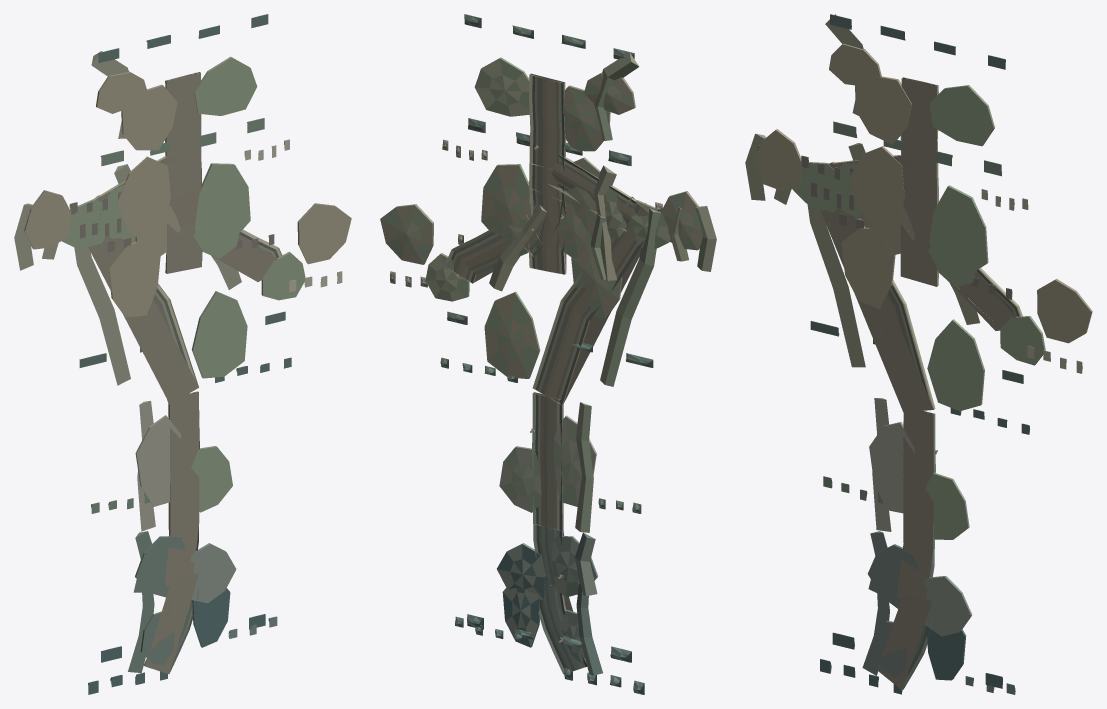
Rendered from urman_act1_master_terrain.glb.
The picture shows the model from 3 angles, left to right: view 1: azimuth 30°, elevation 25°; view 2: azimuth 150°, elevation 25°; view 3: azimuth 330°, elevation 25°; orthographic projection. The views are drawn at different scales.
Visible parts, largest first — view 1: ReturnStreet_RoadCrown_Near_LOD0, ZiratApproach_RoadCrown_Near_LOD0, VillageRoad_TerrainRelief_East_Near_LOD0, ReturnStreet_TerrainRelief_East_Near_LOD0, VillageRoad_TerrainRelief_West_Near_LOD0, ReturnStreet_TerrainRelief_West_Near_LOD0, ArrivalKyrla_TerrainRelief_Near_LOD0, ArrivalKyrla_TerrainRelief_East_Near_LOD0, ArrivalKyrla_RoadCrown_Near_LOD0, ZiratApproach_QuietGroundRelief_Near_LOD0, FapApproach_PlotRiseFall_Mid_LOD0, KaraForestEdge_ComposedBendRoadCrown_Near_LOD0 (+22 smaller); view 2: ReturnStreet_RoadCrown_Near_LOD0, ReturnStreet_TerrainRelief_East_Near_LOD0, ZiratApproach_RoadCrown_Near_LOD0, ArrivalKyrla_RoadCrown_Near_LOD0, VillageRoad_RoadCrown_Near_LOD0, ReturnStreet_BanksAndDitches_Mid_LOD0, VillageRoad_TerrainRelief_East_Near_LOD0, ArrivalKyrla_TerrainRelief_East_Near_LOD0, FapApproach_PlotRiseFall_Mid_LOD0, ZiratApproach_QuietGroundRelief_East_Near_LOD0, ZiratApproach_QuietGroundRelief_Near_LOD0, FapApproach_RoadCrown_Near_LOD0 (+28 smaller); view 3: ReturnStreet_RoadCrown_Near_LOD0, ZiratApproach_RoadCrown_Near_LOD0, VillageRoad_TerrainRelief_East_Near_LOD0, ReturnStreet_TerrainRelief_East_Near_LOD0, VillageRoad_TerrainRelief_West_Near_LOD0, ReturnStreet_TerrainRelief_West_Near_LOD0, ArrivalKyrla_TerrainRelief_Near_LOD0, ArrivalKyrla_TerrainRelief_East_Near_LOD0, ArrivalKyrla_RoadCrown_Near_LOD0, VillageRoad_RoadCrown_Near_LOD0, KaraForestEdge_ComposedBendRoadCrown_Near_LOD0, FapApproach_PlotRiseFall_Mid_LOD0 (+21 smaller).
Part boxes in pixels (box(x1,y1,x2,y2)): ReturnStreet_RoadCrown_Near_LOD0: box(88, 195, 198, 404); ZiratApproach_RoadCrown_Near_LOD0: box(168, 391, 199, 530); VillageRoad_TerrainRelief_East_Near_LOD0: box(194, 163, 250, 249); ReturnStreet_TerrainRelief_East_Near_LOD0: box(191, 291, 247, 378); VillageRoad_TerrainRelief_West_Near_LOD0: box(116, 156, 170, 242); ReturnStreet_TerrainRelief_West_Near_LOD0: box(109, 240, 160, 317); ArrivalKyrla_TerrainRelief_Near_LOD0: box(121, 84, 177, 150); ArrivalKyrla_TerrainRelief_East_Near_LOD0: box(194, 56, 257, 115); ArrivalKyrla_RoadCrown_Near_LOD0: box(165, 72, 201, 170); ZiratApproach_QuietGroundRelief_Near_LOD0: box(135, 415, 180, 506); FapApproach_PlotRiseFall_Mid_LOD0: box(297, 203, 351, 264); KaraForestEdge_ComposedBendRoadCrown_Near_LOD0: box(143, 573, 198, 674); ReturnStreet_RoadCrown_Near_LOD0: box(532, 197, 649, 404); ReturnStreet_TerrainRelief_East_Near_LOD0: box(484, 291, 540, 378); ZiratApproach_RoadCrown_Near_LOD0: box(532, 392, 563, 530); ArrivalKyrla_RoadCrown_Near_LOD0: box(529, 73, 566, 170); VillageRoad_RoadCrown_Near_LOD0: box(528, 163, 566, 274); ReturnStreet_BanksAndDitches_Mid_LOD0: box(600, 208, 660, 386); VillageRoad_TerrainRelief_East_Near_LOD0: box(481, 164, 533, 236); ArrivalKyrla_TerrainRelief_East_Near_LOD0: box(474, 57, 529, 116); FapApproach_PlotRiseFall_Mid_LOD0: box(380, 204, 433, 264); ZiratApproach_QuietGroundRelief_East_Near_LOD0: box(499, 446, 541, 512); ZiratApproach_QuietGroundRelief_Near_LOD0: box(554, 415, 596, 506); FapApproach_RoadCrown_Near_LOD0: box(444, 213, 541, 283); ReturnStreet_RoadCrown_Near_LOD0: box(820, 162, 935, 412); ZiratApproach_RoadCrown_Near_LOD0: box(903, 408, 935, 549); VillageRoad_TerrainRelief_East_Near_LOD0: box(929, 185, 988, 276); ReturnStreet_TerrainRelief_East_Near_LOD0: box(927, 319, 984, 411); VillageRoad_TerrainRelief_West_Near_LOD0: box(849, 146, 904, 232); ReturnStreet_TerrainRelief_West_Near_LOD0: box(841, 227, 895, 308); ArrivalKyrla_TerrainRelief_Near_LOD0: box(854, 76, 911, 144); ArrivalKyrla_TerrainRelief_East_Near_LOD0: box(929, 85, 994, 146); ArrivalKyrla_RoadCrown_Near_LOD0: box(900, 77, 938, 178); VillageRoad_RoadCrown_Near_LOD0: box(900, 171, 938, 286); KaraForestEdge_ComposedBendRoadCrown_Near_LOD0: box(877, 594, 932, 690); FapApproach_PlotRiseFall_Mid_LOD0: box(1037, 279, 1092, 343).
Size of what is drawn, in the model's own units: 96.87 by 177 by 2.66.
